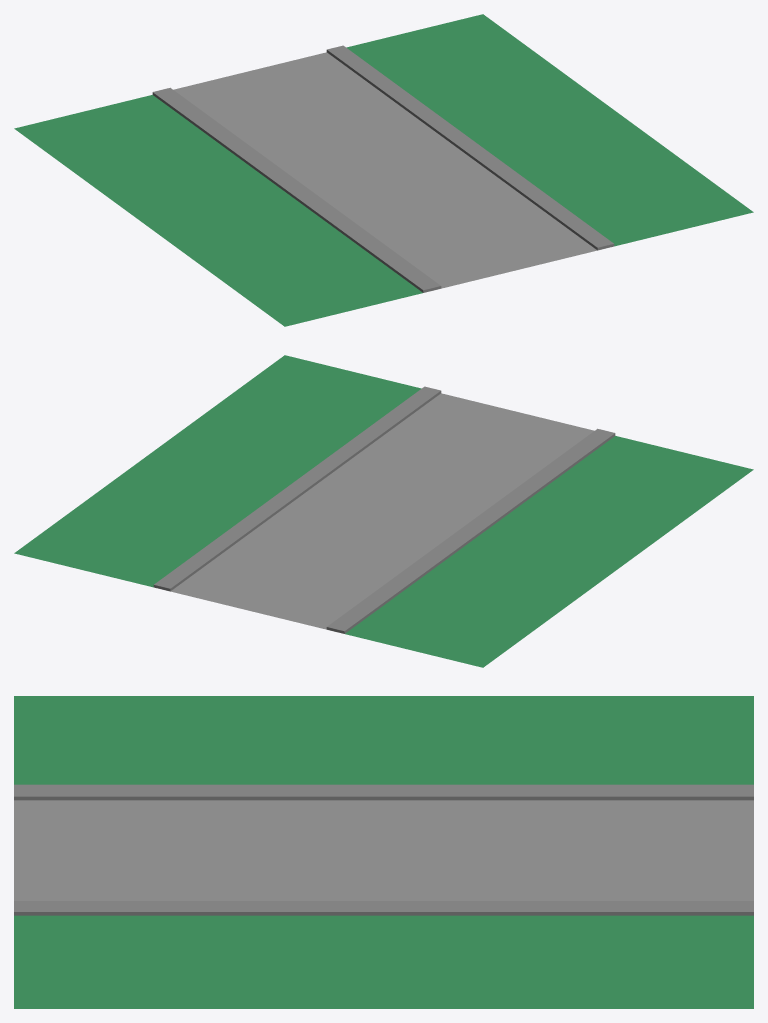
Rendered from Park3-Straight.fbx.
The picture shows the model from 3 angles, top to bottom: view 1: azimuth 30°, elevation 25°; view 2: azimuth 150°, elevation 25°; view 3: azimuth 270°, elevation 25°; orthographic projection. The views are drawn at different scales.
Parts seen in each view (by area): view 1: Park3; view 2: Park3; view 3: Park3.
Boxes of the visible parts, x1,y1,x2,y2 form: Park3: [14, 14, 753, 326]; Park3: [14, 355, 753, 667]; Park3: [14, 696, 753, 1008].
Bounding box in the file's own units: 350 × 1.95 × 350.
